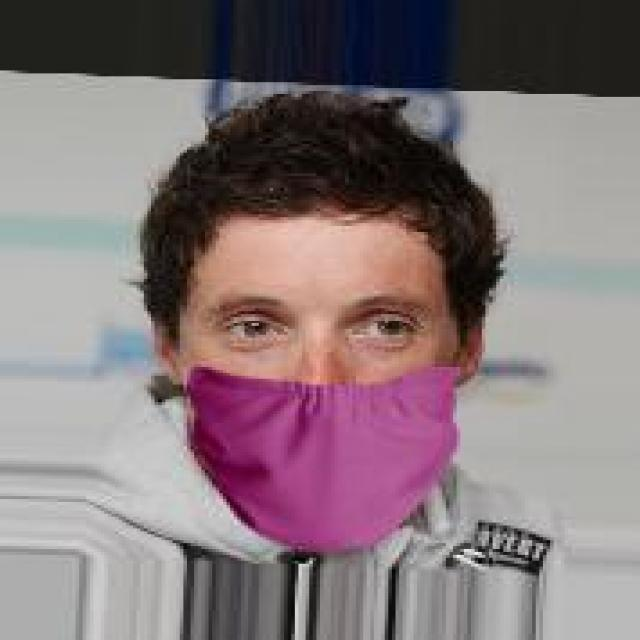mask: (105, 65, 540, 593)
